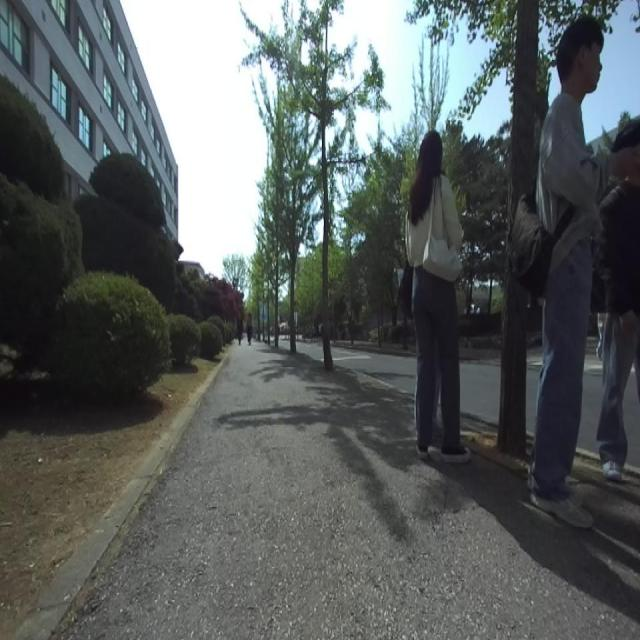sidewalk: (58, 342, 640, 639)
